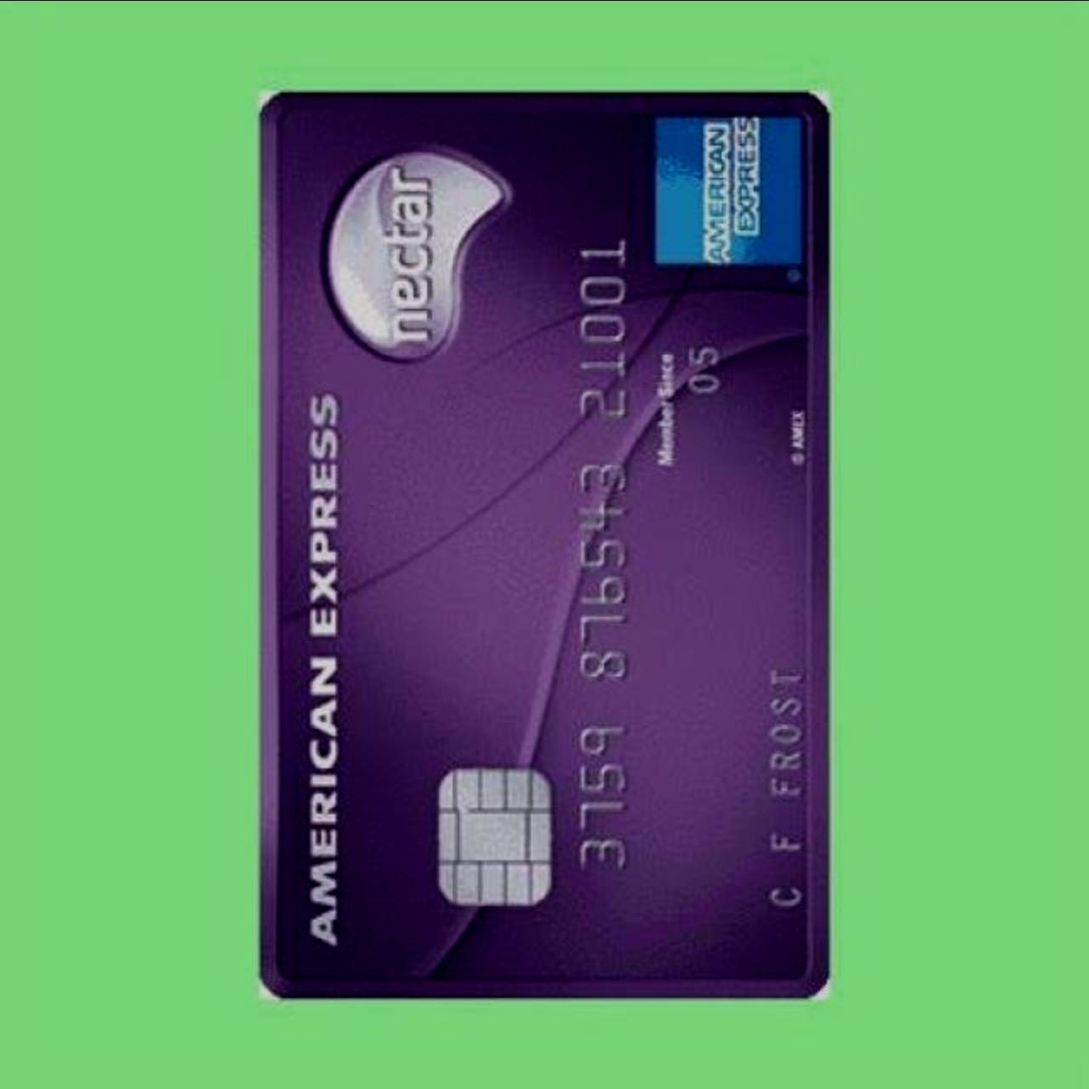credit_card: (252, 78, 834, 1007)
